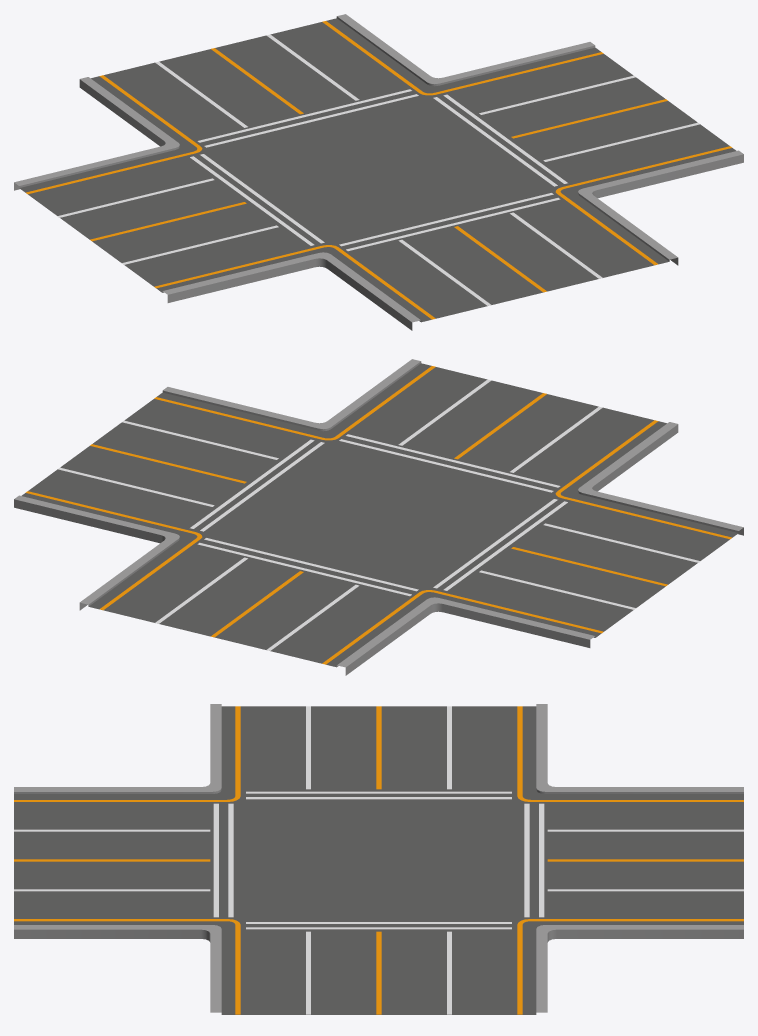
Rendered from Road_B_2L_2_6.fbx.
The picture shows the model from 3 angles, top to bottom: view 1: azimuth 30°, elevation 25°; view 2: azimuth 150°, elevation 25°; view 3: azimuth 270°, elevation 25°; orthographic projection. The views are drawn at different scales.
Visible parts, largest first — view 1: Road_B_2L_2_6; view 2: Road_B_2L_2_6; view 3: Road_B_2L_2_6.
Part boxes in pixels (x1=…): Road_B_2L_2_6: x1=14, y1=14, x2=743, y2=330; Road_B_2L_2_6: x1=14, y1=359, x2=743, y2=675; Road_B_2L_2_6: x1=14, y1=704, x2=743, y2=1014.
Size of the model in its own units: 2975 by 41.49 by 2975.
